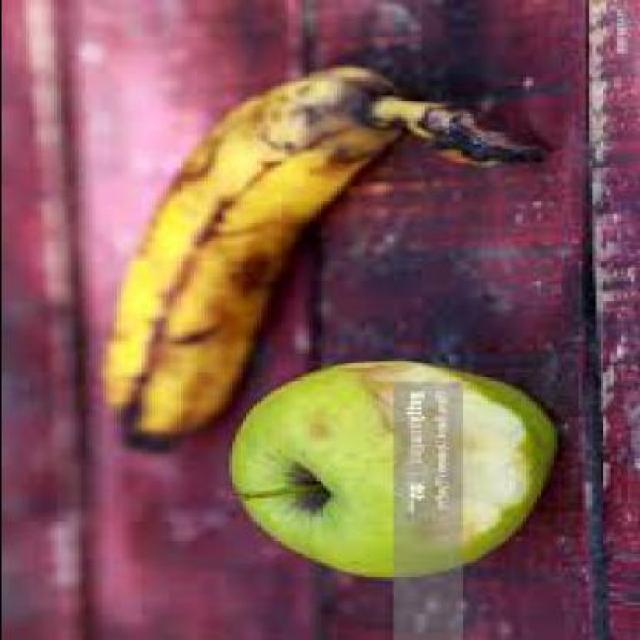BIODEGRADABLE: (94, 63, 546, 451), (221, 356, 559, 575)
